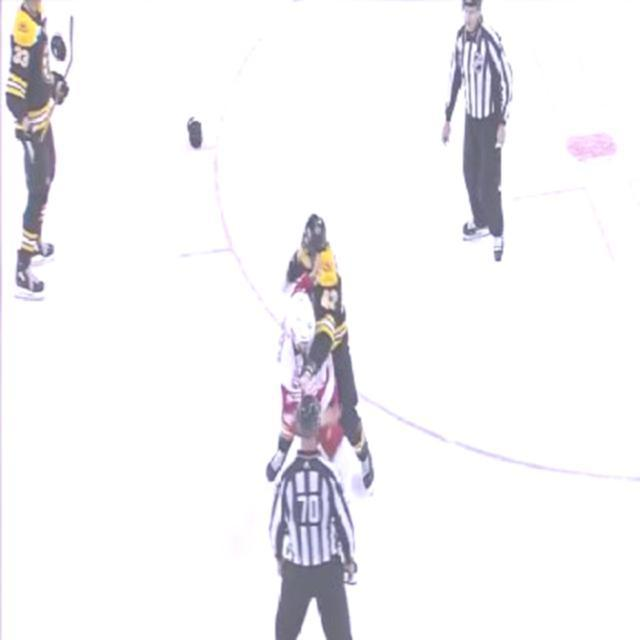fight: (258, 211, 376, 504)
